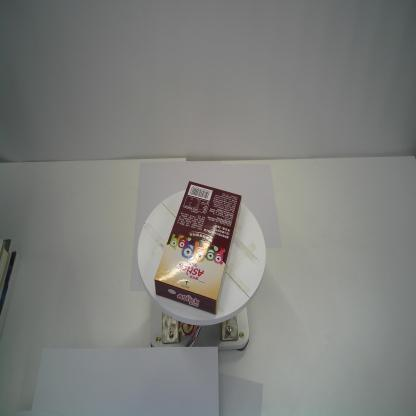Dessert: (154, 178, 242, 318)
